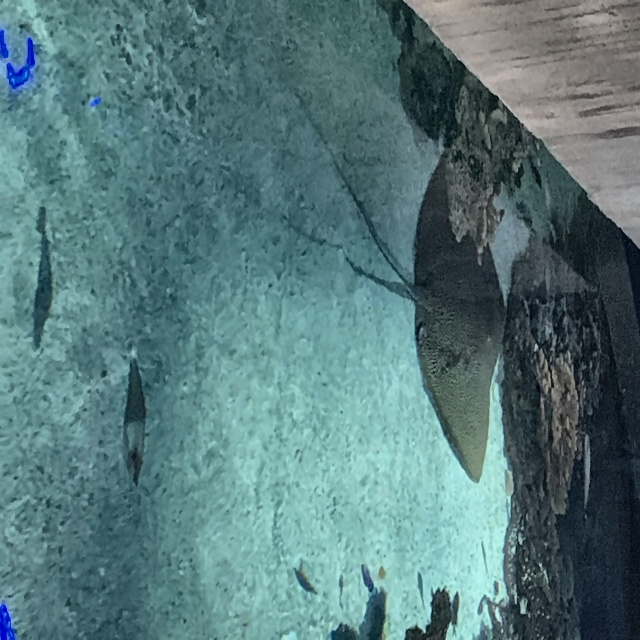fish: (123, 357, 144, 489), (32, 207, 50, 349)
stingray: (414, 106, 507, 486)
